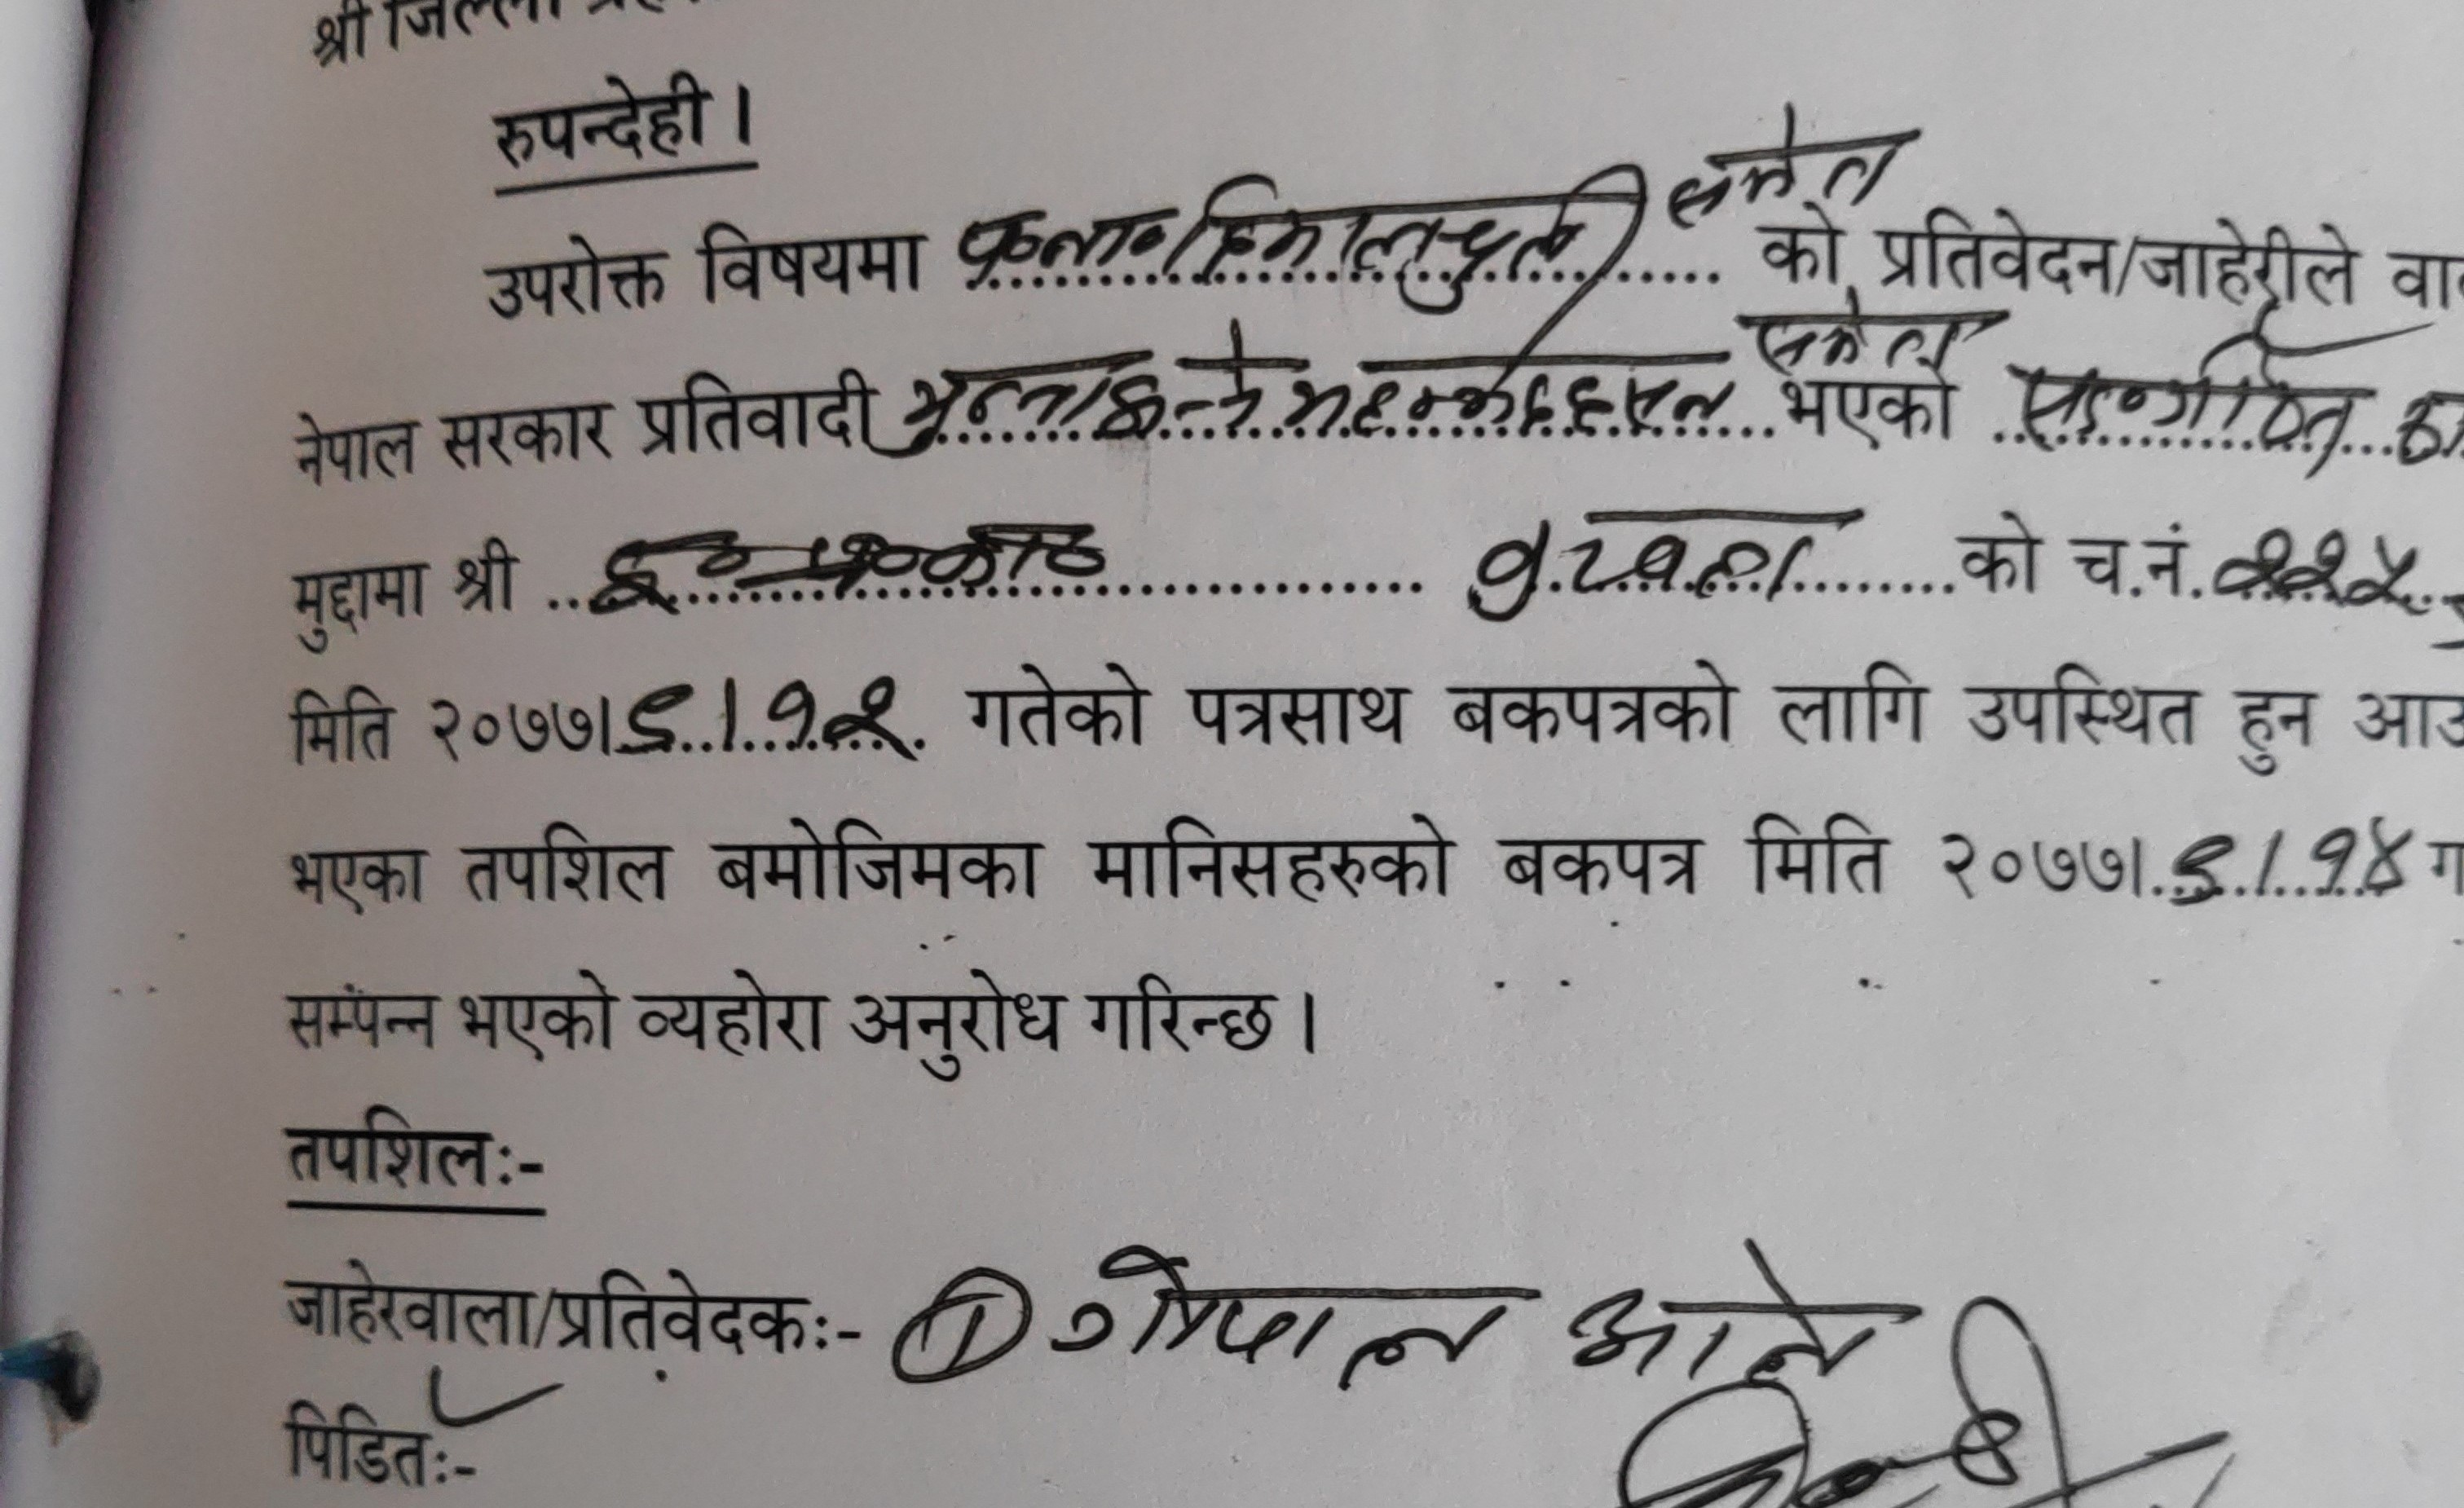text: (1176, 150, 1653, 327), (1037, 1242, 1529, 1397), (1577, 1233, 1924, 1399), (1999, 333, 2365, 473), (1466, 491, 1834, 630), (1665, 100, 1906, 229), (1732, 282, 1978, 378), (947, 192, 1167, 294), (2209, 521, 2425, 623), (759, 660, 926, 787), (2307, 801, 2420, 908), (614, 672, 708, 778), (2165, 825, 2239, 922)
